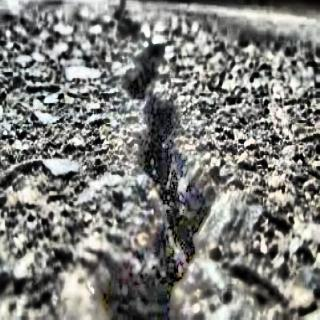crack: (100, 7, 208, 320)
